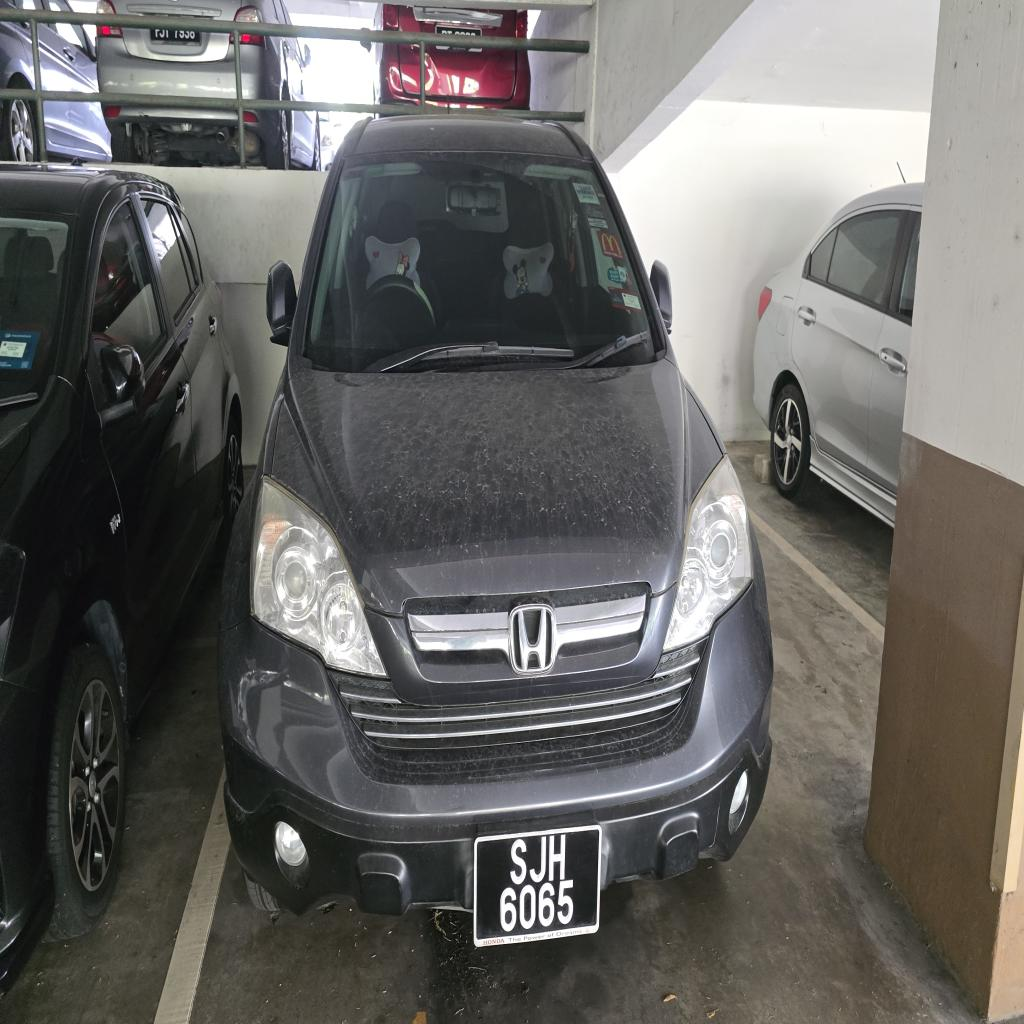car: (220, 116, 772, 944)
car plate: (474, 826, 602, 946)
